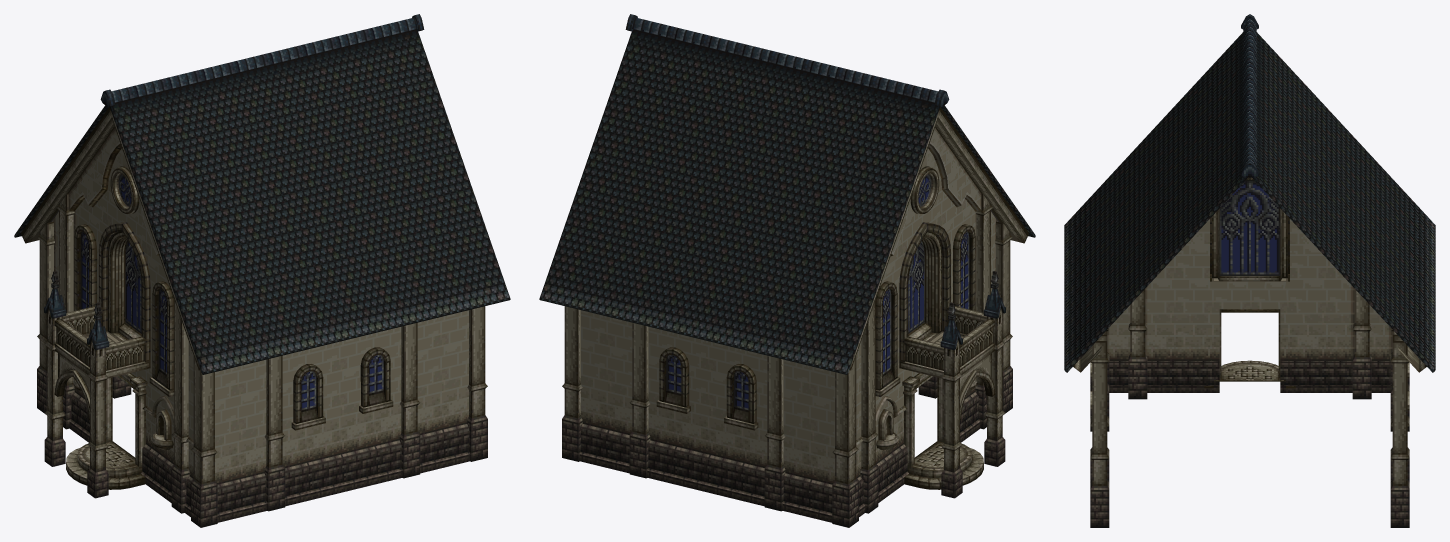
The model's file is EnvBdgMD_Church_Mount_C_Outdoor.FBX.
3 views of the same model, side by side, from view 1: azimuth 30°, elevation 25°; view 2: azimuth 150°, elevation 25°; view 3: azimuth 270°, elevation 25° (orthographic). The views are drawn at different scales.
Visible parts, largest first — view 1: EnvBdgMD_Church_Mount_C_Outdoor; view 2: EnvBdgMD_Church_Mount_C_Outdoor; view 3: EnvBdgMD_Church_Mount_C_Outdoor.
Part boxes in pixels (box(x1,y1,x2,y2)): EnvBdgMD_Church_Mount_C_Outdoor: box(14, 14, 510, 527); EnvBdgMD_Church_Mount_C_Outdoor: box(539, 14, 1035, 527); EnvBdgMD_Church_Mount_C_Outdoor: box(1064, 14, 1435, 527).
Size of the model in its own units: 1035 by 1076 by 977.
